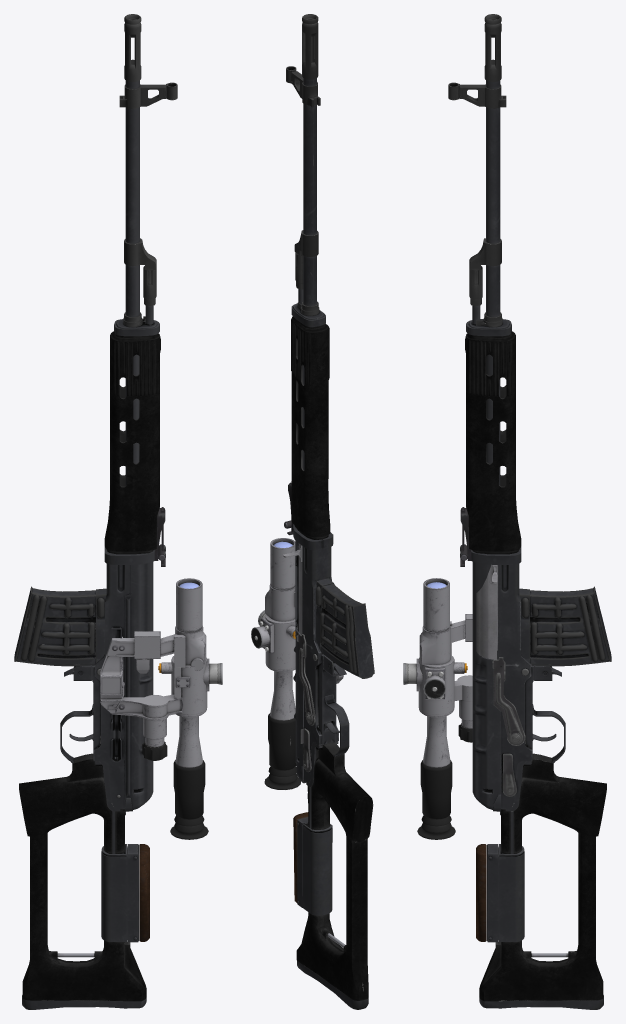
File: dragunov.fbx
3 renders of one model, left to right at view 1: azimuth 90°, elevation 25°; view 2: azimuth 210°, elevation 25°; view 3: azimuth 270°, elevation 25°, orthographic. The views are drawn at different scales.
Parts seen in each view (by area): view 1: Dragunov, Magazine; view 2: Dragunov, Magazine; view 3: Dragunov, Magazine.
Boxes of the visible parts, x1=… form: Dragunov: x1=19, y1=14, x2=222, y2=1009; Magazine: x1=14, y1=586, x2=106, y2=666; Dragunov: x1=251, y1=14, x2=373, y2=1009; Magazine: x1=316, y1=578, x2=374, y2=678; Dragunov: x1=403, y1=14, x2=606, y2=1009; Magazine: x1=519, y1=586, x2=611, y2=666.
Bounding box in the file's own units: 12.64 × 200 × 38.19.
